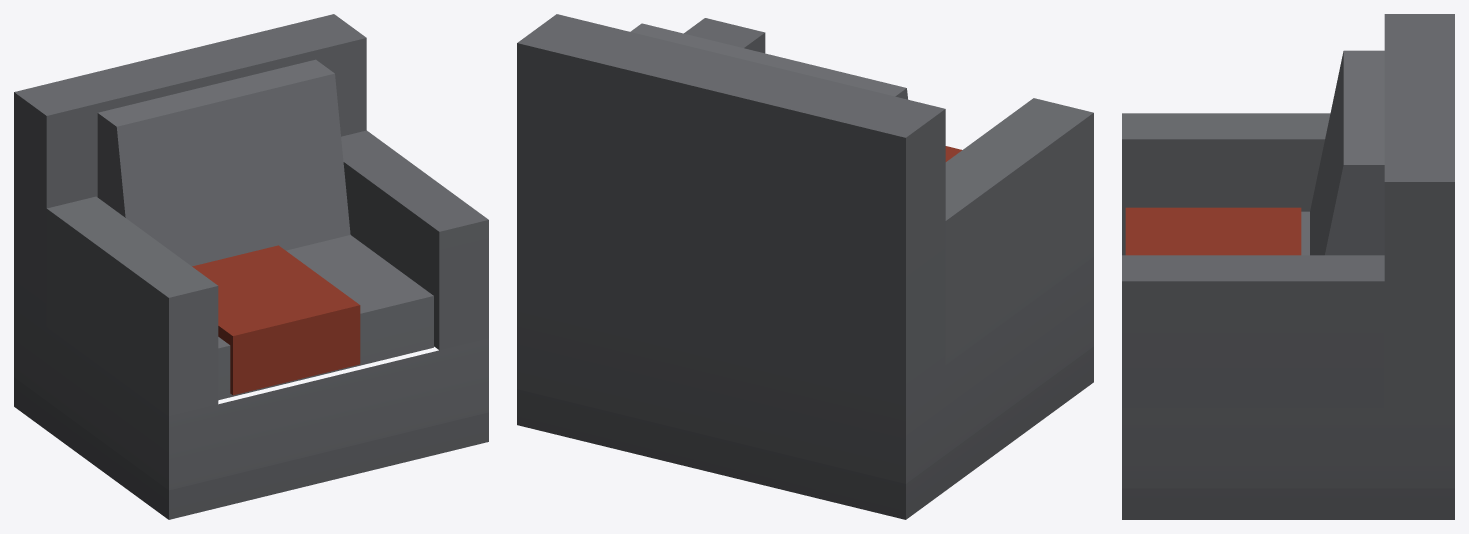
Rendered from sofa.armchair.grey.glb.
3 renders of one model, left to right at view 1: azimuth 30°, elevation 25°; view 2: azimuth 150°, elevation 25°; view 3: azimuth 270°, elevation 25°, orthographic. The views are drawn at different scales.
Visible parts, largest first — view 1: sofa_armchair_grey; view 2: sofa_armchair_grey; view 3: sofa_armchair_grey.
Part boxes in pixels (<box>): sofa_armchair_grey: <box>14,14,488,519</box>; sofa_armchair_grey: <box>517,14,1093,519</box>; sofa_armchair_grey: <box>1122,14,1454,519</box>.
Size of what is drawn, in the model's own units: 0.905 by 0.85 by 0.758.
